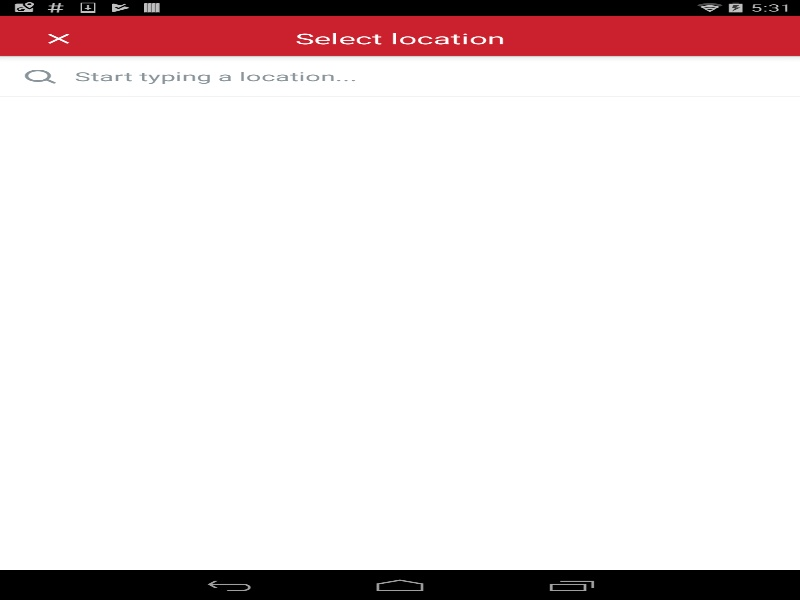Input: (56, 56, 677, 96)
